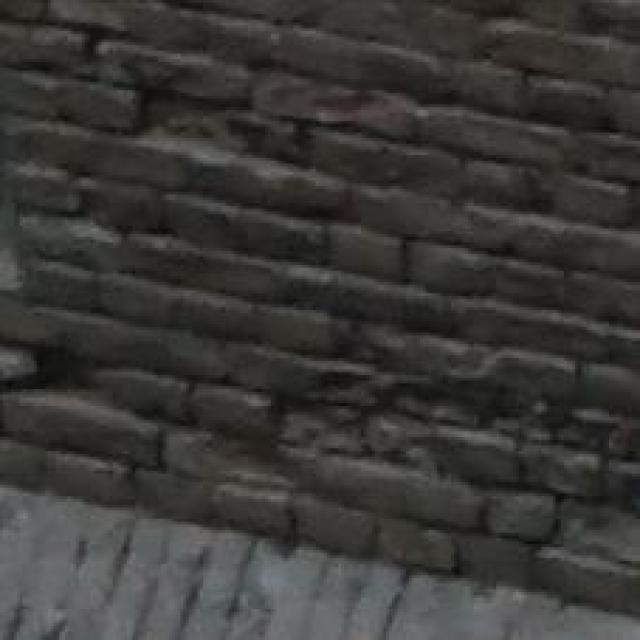Crack: (0, 315, 640, 546)
